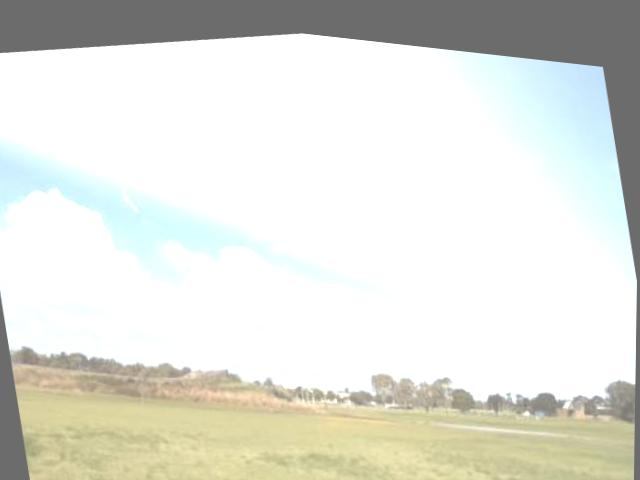uav: (114, 174, 147, 215)
